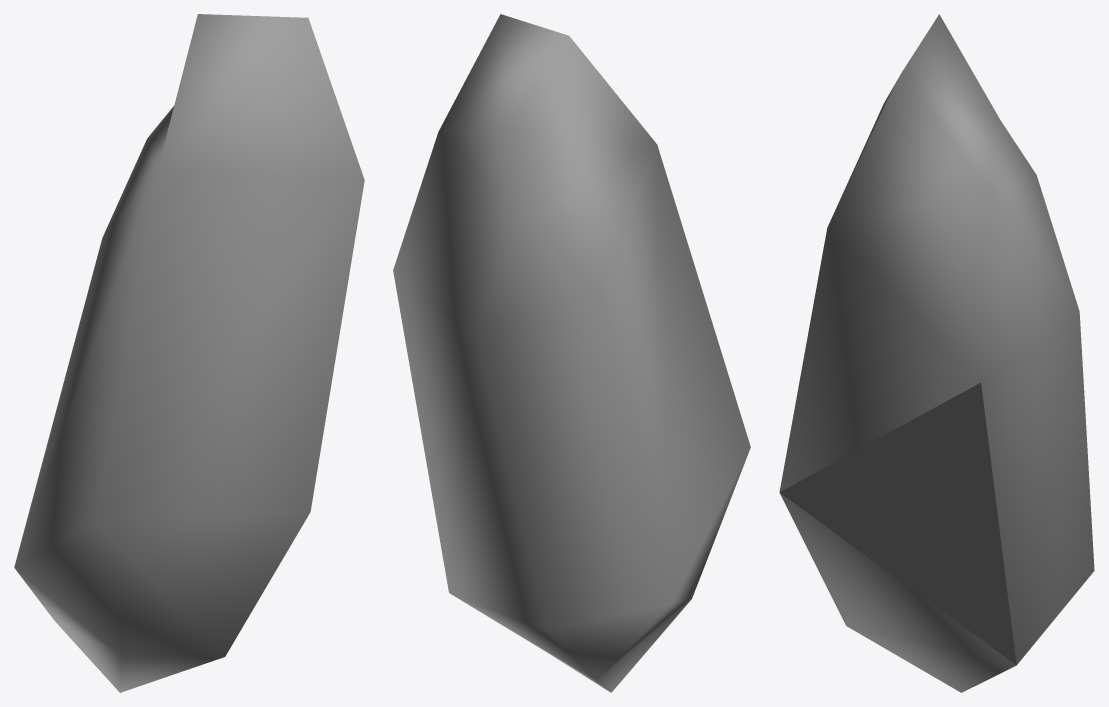
Rendered from Batu6.fbx.
3 renders of one model, left to right at view 1: azimuth 30°, elevation 25°; view 2: azimuth 150°, elevation 25°; view 3: azimuth 270°, elevation 25°, orthographic. The views are drawn at different scales.
Visible parts, largest first — view 1: SM_Rocks_11; view 2: SM_Rocks_11; view 3: SM_Rocks_11.
Boxes of the visible parts, <box> form: SM_Rocks_11: <box>14,14,364,692</box>; SM_Rocks_11: <box>393,14,750,692</box>; SM_Rocks_11: <box>779,14,1094,692</box>.
Size of the model in its own units: 35.14 by 71.72 by 29.53.
